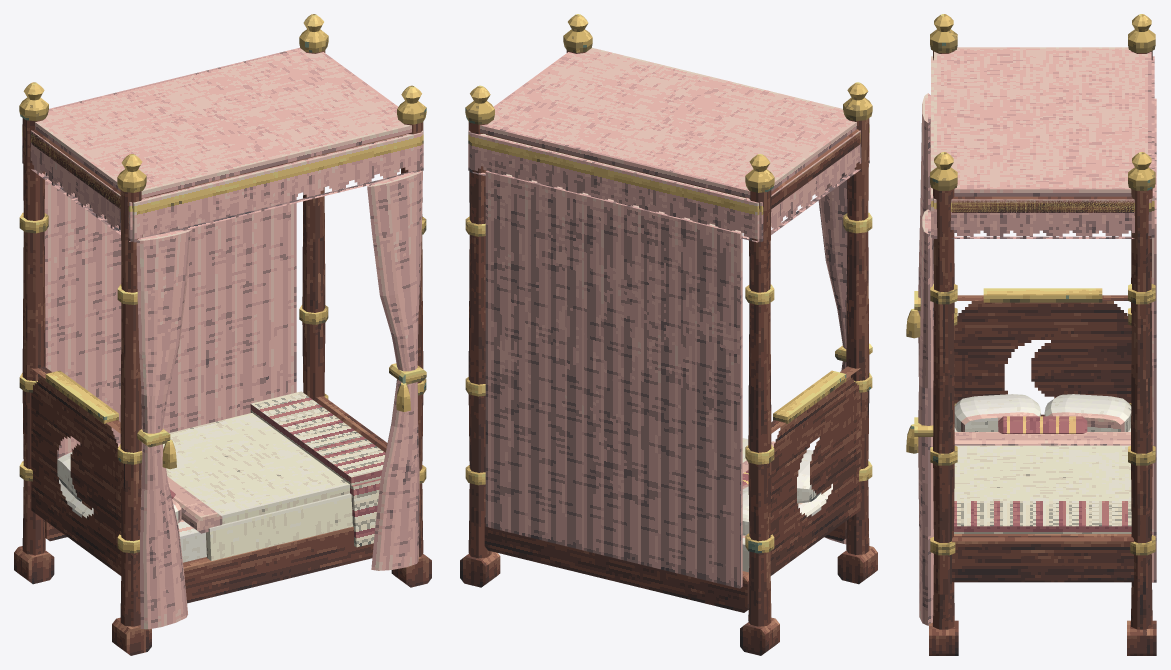
File: canopy_bed.glb
3 renders of one model, left to right at view 1: azimuth 30°, elevation 25°; view 2: azimuth 150°, elevation 25°; view 3: azimuth 270°, elevation 25°, orthographic.
Visible parts, largest first — view 1: backpanel, roof, drape, drape1, duvet, headboard, valance1, post1, post, siderail1, throw, duvetdrop1 (+16 smaller); view 2: backpanel, roof, headboard, valance, post, post1, siderail, post2, drape, valancez, toprailz, headgold (+9 smaller); view 3: roof, headboard, duvet, footboard, post3, post2, valancez1, throw, drape1, toprailz1, pillow1, pillow (+18 smaller).
Part boxes in pixels (x1,y1,x2,y2): backpanel: (44, 172, 296, 458); roof: (35, 47, 411, 198); drape: (136, 229, 192, 629); drape1: (367, 170, 422, 570); duvet: (163, 413, 349, 524); headboard: (31, 366, 121, 575); valance1: (132, 132, 422, 242); post1: (120, 190, 142, 626); post: (22, 118, 45, 554); siderail1: (183, 526, 373, 603); throw: (250, 391, 385, 485); duvetdrop1: (206, 493, 352, 560); backpanel: (485, 170, 742, 588); roof: (480, 47, 856, 198); headboard: (770, 366, 860, 575); valance: (469, 132, 759, 242); post: (748, 190, 771, 626); post1: (846, 118, 869, 554); siderail: (484, 517, 749, 612); post2: (468, 122, 491, 558); drape: (818, 164, 868, 544); valancez: (759, 124, 869, 241); toprailz: (771, 129, 860, 208); headgold: (773, 370, 846, 423); roof: (934, 47, 1151, 196); headboard: (954, 295, 1131, 416); duvet: (954, 445, 1131, 500); footboard: (952, 534, 1133, 582); post3: (933, 188, 954, 629); post2: (1131, 189, 1152, 629); valancez1: (934, 198, 1151, 238); throw: (954, 501, 1131, 533); drape1: (918, 209, 933, 625); toprailz1: (952, 196, 1133, 212); pillow1: (954, 394, 1040, 431); pillow: (1044, 394, 1131, 431).
Bounding box in the file's own units: 2.25 × 3.47 × 1.58.
Materials: 2 (2 with a texture image).
